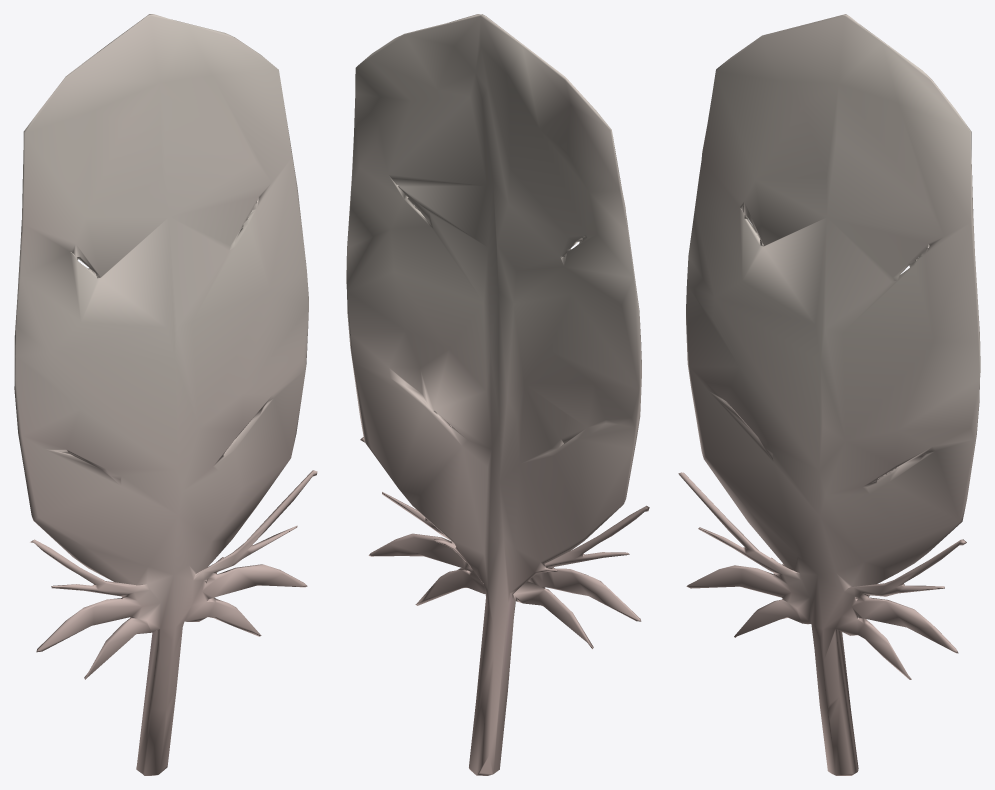
The model's file is gen3d-feather-lod1.glb.
3 views of the same model, side by side, from view 1: azimuth 30°, elevation 25°; view 2: azimuth 150°, elevation 25°; view 3: azimuth 330°, elevation 25° (orthographic).
Parts seen in each view (by area): view 1: part_0; view 2: part_0; view 3: part_0.
Boxes of the visible parts, left/top/right/bottom form: part_0: left=14, top=14, right=317, bottom=775; part_0: left=346, top=14, right=649, bottom=775; part_0: left=678, top=14, right=980, bottom=775.
Size of the model in its own units: 0.4081 by 0.9998 by 0.0768.
